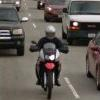Motorcycle: (24, 36, 65, 100)
